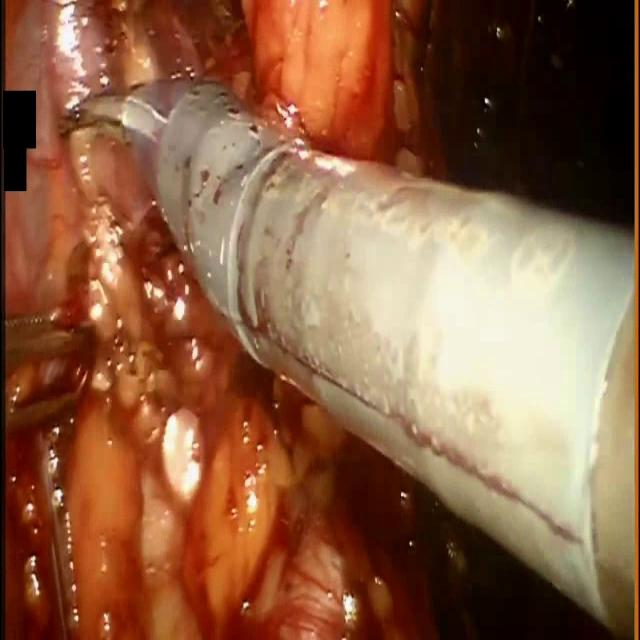surgical-area: (2, 0, 634, 639)
surgical-tool: (86, 72, 636, 639)
